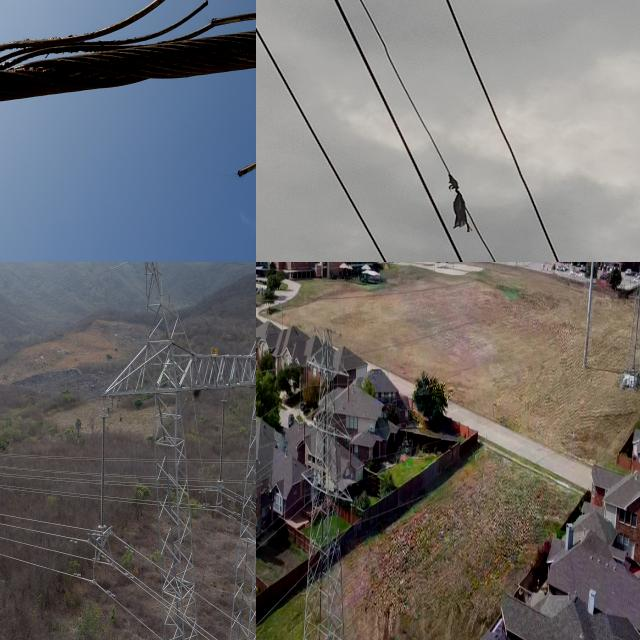杆塔: (83, 262, 256, 640), (293, 324, 360, 640), (627, 262, 640, 388)
植被遮挡: (440, 168, 476, 240)
正常绝缘子: (98, 413, 108, 530), (218, 399, 228, 483), (305, 362, 311, 392), (346, 375, 351, 406), (302, 416, 307, 447), (349, 504, 355, 528), (300, 474, 304, 501)
电缆破损: (0, 0, 256, 198)
